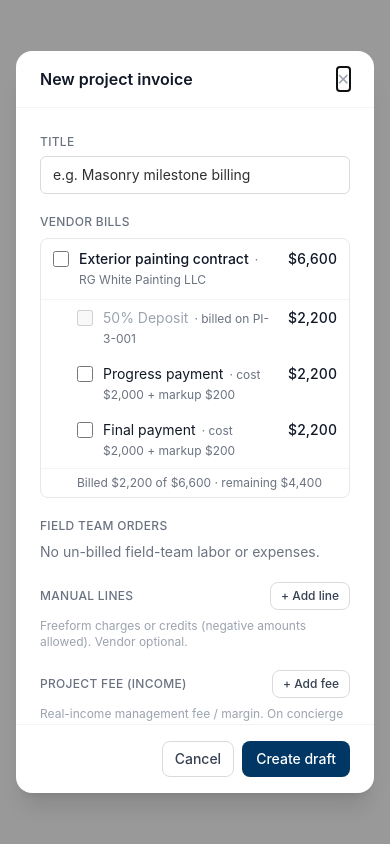
Scenario: ProjectInvoiceBuilderModal — vendor bill line items › adds only the selected line to the running total
The width and height of the screenshot is (390, 844).
Click the checkbox labelled "Progress payment· cost $2,000 + markup $200 $2,200": (85, 374) [77,366,93,382]
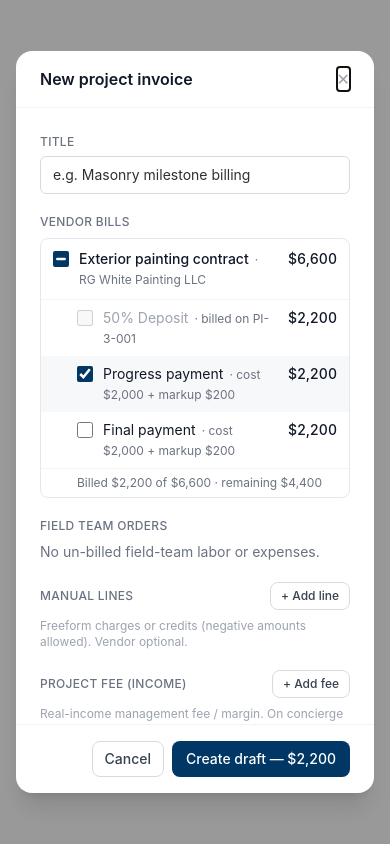
Expected: the button "Create draft — $2,200" is shown, [172,741,350,777]
